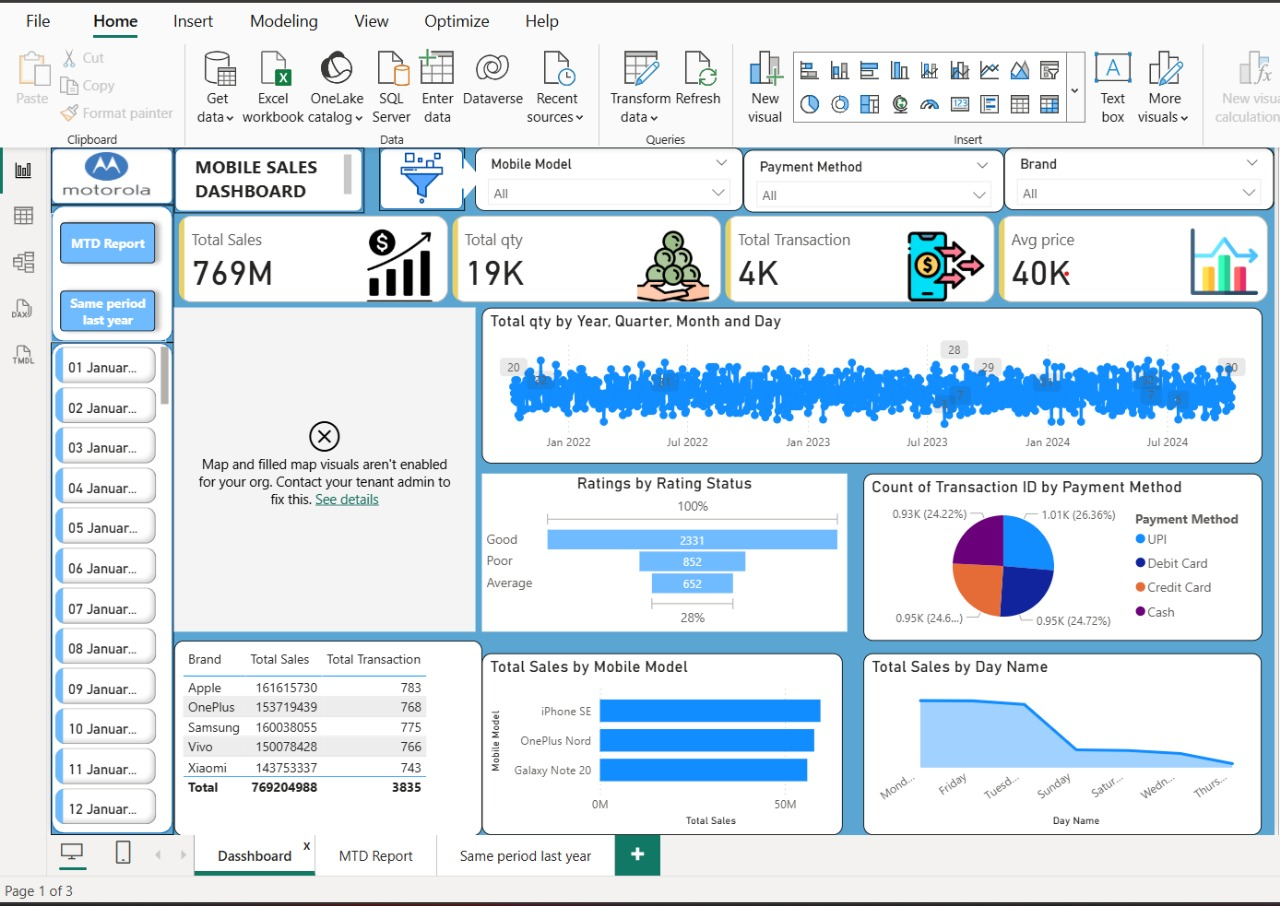

What the dashboard file says about the page in this screenshot:
{"tool":"powerbi","page":{"name":"Dasshboard","canvas":[1280,720],"ordinal":0},"visuals":[{"type":"shape","box":[0,0,129,60.4],"z":0},{"type":"shape","box":[0,60.4,129,144.1],"z":1000},{"type":"shape","box":[0,204.5,129,516],"z":2000},{"type":"advancedSlicerVisual","fields":{"Values":["Custom calender.Date"]},"box":[0,204.5,129,516],"z":3000},{"type":"cardVisual","fields":{"Data":["Mobile Sales Data.Total Sales","Mobile Sales Data.Total qty","Mobile Sales Data.Total Transaction","Mobile Sales Data.Avg price"]},"box":[129.1,66.4,1150.9,101.3],"z":4000},{"type":"slicer","fields":{"Values":["Mobile Sales Data.Mobile Model"]},"box":[444,0,281.1,66.4],"z":5000},{"type":"slicer","fields":{"Values":["Mobile Sales Data.Mobile Model"]},"box":[724.5,2.7,273.1,65.9],"z":6000},{"type":"slicer","fields":{"Values":["Mobile Sales Data.Mobile Model"]},"box":[1014.1,0,266.2,65.9],"z":7000},{"type":"slicer","fields":{"Values":["Mobile Sales Data.Mobile Model"]},"box":[997.6,0,282.7,65.9],"z":8000},{"type":"shape","box":[343.8,0,89.3,66.4],"z":9000},{"type":"image","box":[298,0,181,63.9],"z":10000},{"type":"shape","box":[413.8,10.9,37.4,43.4],"z":11000},{"type":"shape","box":[129,0,199,68.6],"z":12000},{"type":"textbox","box":[146,2.4,173.7,55.5],"z":13000},{"type":"lineChart","fields":{"Y":["Mobile Sales Data.Total qty"],"Category":["Custom calender.Date.Variation.Date Hierarchy.Year","Custom calender.Date.Variation.Date Hierarchy.Quarter","Custom calender.Date.Variation.Date Hierarchy.Month","Custom calender.Date.Variation.Date Hierarchy.Day"]},"box":[451.2,167.7,816.8,162.9],"z":14000},{"type":"funnel","title":"Ratings by Rating Status","fields":{"Y":["CountNonNull(Mobile Sales Data.Customer Ratings)"],"Category":["Mobile Sales Data.Rating Status"]},"box":[451.2,341.4,382.4,165.3],"z":15000},{"type":"pieChart","fields":{"Y":["CountNonNull(Mobile Sales Data.Transaction ID)"],"Category":["Mobile Sales Data.Payment Method"]},"box":[850.5,341.4,417.4,174.9],"z":16000},{"type":"clusteredBarChart","fields":{"Y":["Mobile Sales Data.Total Sales"],"Category":["Mobile Sales Data.Mobile Model"]},"box":[451.5,529.7,377.4,190.7],"z":17000},{"type":"areaChart","fields":{"Y":["Mobile Sales Data.Total Sales"],"Category":["Custom calender.Day Name"]},"box":[850.8,529.7,417.2,190.7],"z":18000},{"type":"tableEx","fields":{"Values":["Mobile Sales Data.Brand","Mobile Sales Data.Total Sales","Mobile Sales Data.Total Transaction"]},"box":[129,516,322.5,204.5],"z":19000},{"type":"image","box":[8.4,0,100.1,54.3],"z":20000},{"type":"pageNavigator","box":[0,68.8,120.6,135.1],"z":21000},{"type":"map","fields":{"Category":["Mobile Sales Data.City"],"Size":["Mobile Sales Data.Total Sales"]},"box":[129.1,167.7,314.9,339],"z":22000}]}

Visuals, with their boxes in screenshot pixels (x1, y1, x2, y2):
shape: pyautogui.locateOnScreen(47, 143, 169, 201)
shape: pyautogui.locateOnScreen(47, 201, 169, 338)
shape: pyautogui.locateOnScreen(47, 338, 169, 829)
advancedSlicerVisual - Custom calender.Date: pyautogui.locateOnScreen(47, 338, 169, 829)
cardVisual - Mobile Sales Data.Total Sales x Mobile Sales Data.Total qty: pyautogui.locateOnScreen(169, 206, 1264, 303)
slicer - Mobile Sales Data.Mobile Model: pyautogui.locateOnScreen(469, 143, 736, 206)
slicer - Mobile Sales Data.Mobile Model: pyautogui.locateOnScreen(736, 146, 996, 209)
slicer - Mobile Sales Data.Mobile Model: pyautogui.locateOnScreen(1011, 143, 1265, 206)
slicer - Mobile Sales Data.Mobile Model: pyautogui.locateOnScreen(996, 143, 1265, 206)
shape: pyautogui.locateOnScreen(374, 143, 459, 206)
image: pyautogui.locateOnScreen(330, 143, 502, 204)
shape: pyautogui.locateOnScreen(440, 154, 476, 195)
shape: pyautogui.locateOnScreen(169, 143, 359, 209)
textbox: pyautogui.locateOnScreen(186, 146, 351, 198)
lineChart - Mobile Sales Data.Total qty x Custom calender.Date.Variation.Date Hierarchy.Year: pyautogui.locateOnScreen(476, 303, 1253, 458)
"Ratings by Rating Status" funnel: pyautogui.locateOnScreen(476, 468, 840, 625)
pieChart - CountNonNull(Mobile Sales Data.Transaction ID) x Mobile Sales Data.Payment Method: pyautogui.locateOnScreen(856, 468, 1253, 634)
clusteredBarChart - Mobile Sales Data.Total Sales x Mobile Sales Data.Mobile Model: pyautogui.locateOnScreen(476, 647, 835, 829)
areaChart - Mobile Sales Data.Total Sales x Custom calender.Day Name: pyautogui.locateOnScreen(856, 647, 1253, 829)
tableEx - Mobile Sales Data.Brand x Mobile Sales Data.Total Sales: pyautogui.locateOnScreen(169, 634, 476, 829)
image: pyautogui.locateOnScreen(55, 143, 150, 195)
pageNavigator: pyautogui.locateOnScreen(47, 209, 161, 337)
map - Mobile Sales Data.City x Mobile Sales Data.Total Sales: pyautogui.locateOnScreen(169, 303, 469, 625)
